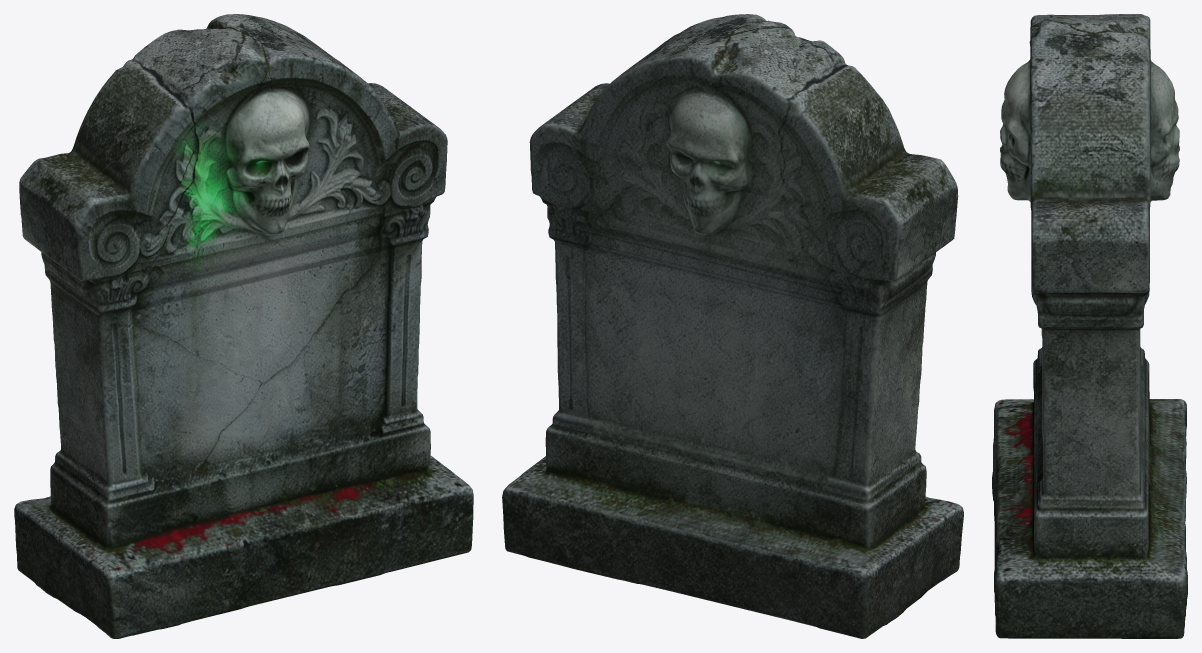
Rendered from crooked_gravestone.glb.
3 renders of one model, left to right at view 1: azimuth 30°, elevation 25°; view 2: azimuth 150°, elevation 25°; view 3: azimuth 270°, elevation 25°, orthographic.
Bounding box in the file's own units: 0.7565 × 1 × 0.3414.
Materials: 1 (1 with a texture image).
